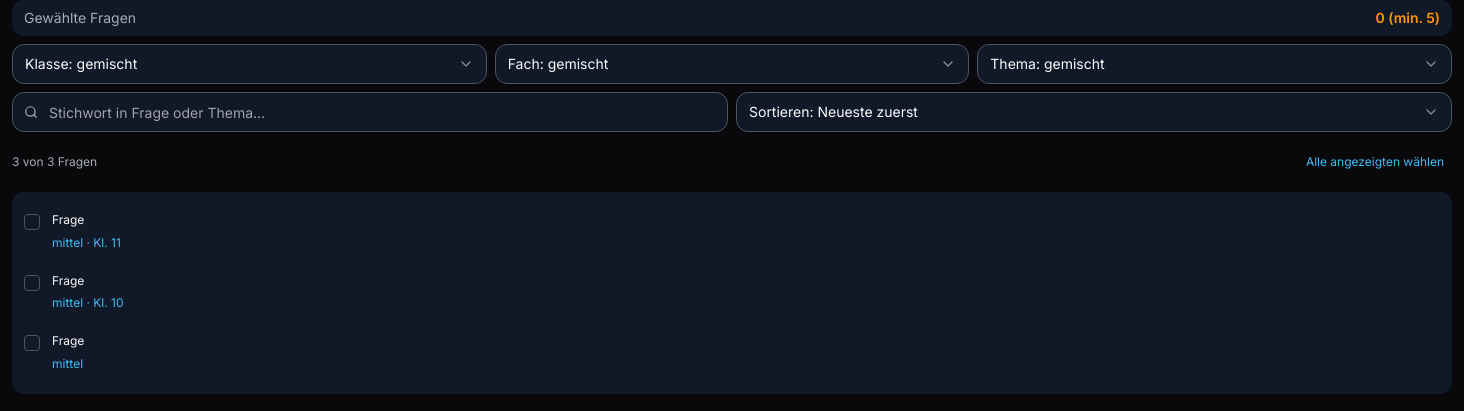
Test: QuestionPicker – PROJ-46 › leitet die Klassenstufen-Filteroptionen aus den geladenen Fragen ab, nicht aus einem Bereichs-Kontext
This screenshot has width=1464, height=411.
Click the dropdown labelled "Klasse" at (81,64), box left=12, top=44, right=487, bottom=84
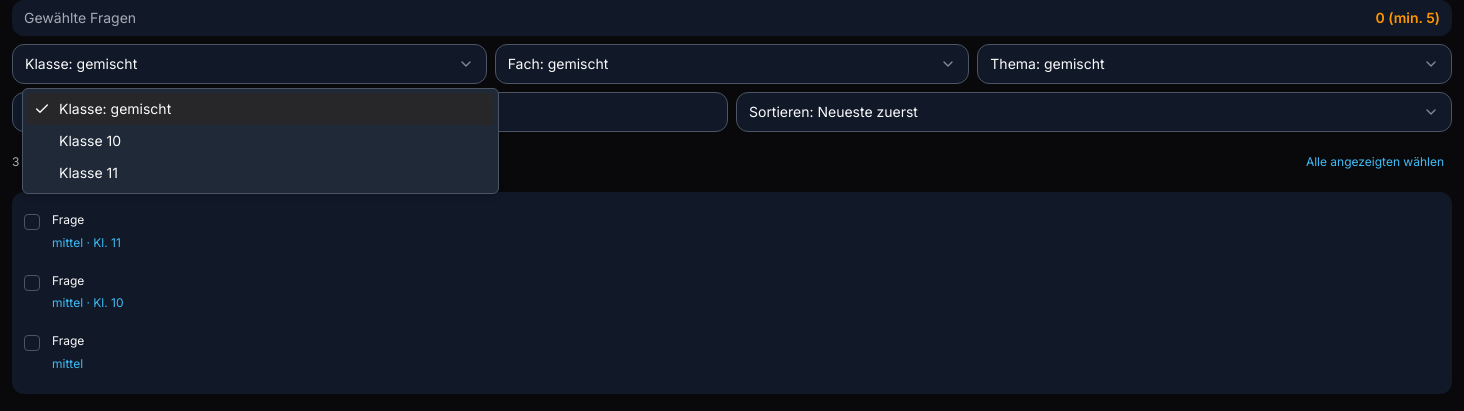
Now the option "Klasse 10" is shown, box left=59, top=132, right=121, bottom=149
Now the option "Klasse 11" is shown, box left=59, top=164, right=118, bottom=181
